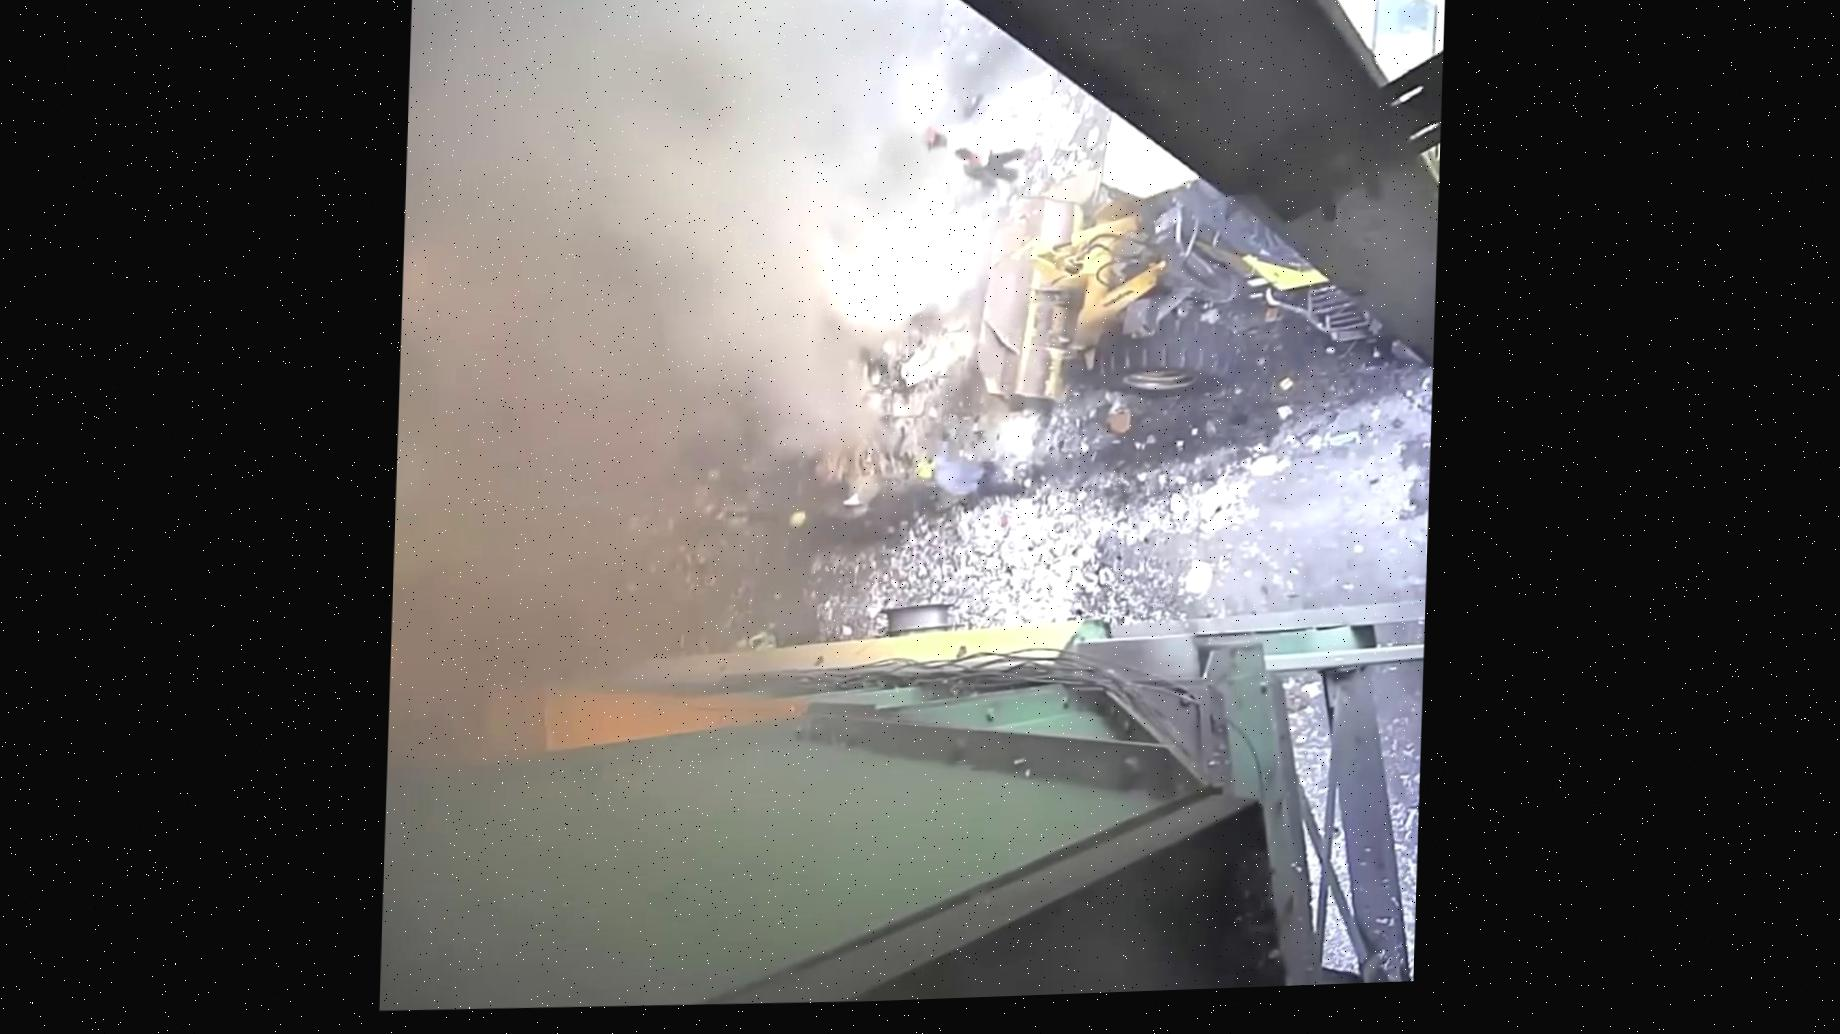smoke: (516, 119, 1141, 580)
